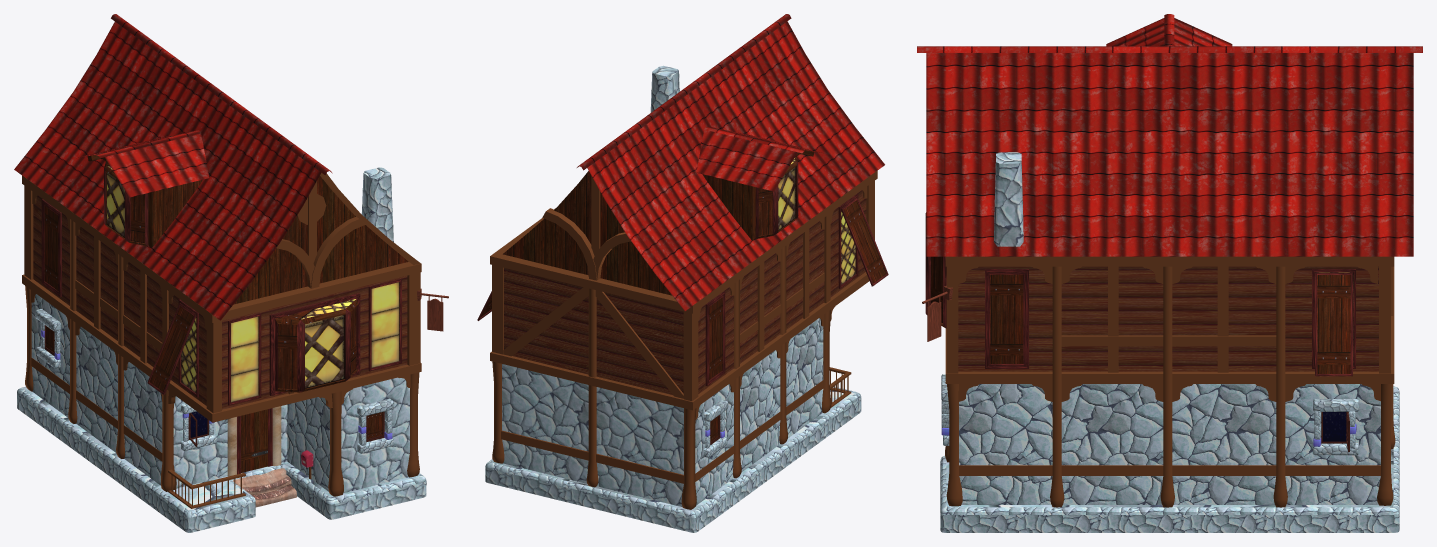
File: House4.fbx
3 views of the same model, side by side, from view 1: azimuth 30°, elevation 25°; view 2: azimuth 150°, elevation 25°; view 3: azimuth 270°, elevation 25° (orthographic). The views are drawn at different scales.
Visible parts, largest first — view 1: Combined_HouseRoot_Mesh_5, Combined_HouseRoot_Mesh, Combined_HouseRoot_Mesh_3, Combined_HouseRoot_Mesh_1, Combined_HouseRoot_Mesh_4, Combined_HouseRoot_Mesh_6, Combined_HouseRoot_Mesh_7, Combined_HouseRoot_Mesh_2, Combined_HouseRoot_Mesh_17, Combined_HouseRoot_Mesh_11, Combined_HouseRoot_Mesh_14, Combined_HouseRoot_Mesh_10 (+3 smaller); view 2: Combined_HouseRoot_Mesh_5, Combined_HouseRoot_Mesh, Combined_HouseRoot_Mesh_3, Combined_HouseRoot_Mesh_4, Combined_HouseRoot_Mesh_6, Combined_HouseRoot_Mesh_7, Combined_HouseRoot_Mesh_1, Combined_HouseRoot_Mesh_11; view 3: Combined_HouseRoot_Mesh_5, Combined_HouseRoot_Mesh_3, Combined_HouseRoot_Mesh, Combined_HouseRoot_Mesh_4, Combined_HouseRoot_Mesh_6, Combined_HouseRoot_Mesh_1, Combined_HouseRoot_Mesh_11, Combined_HouseRoot_Mesh_10, Combined_HouseRoot_Mesh_8, Combined_HouseRoot_Mesh_12.
Part boxes in pixels (x1,y1,x2,y2): Combined_HouseRoot_Mesh_5: [14, 14, 332, 320]; Combined_HouseRoot_Mesh: [22, 173, 421, 508]; Combined_HouseRoot_Mesh_3: [31, 167, 409, 492]; Combined_HouseRoot_Mesh_1: [41, 161, 360, 397]; Combined_HouseRoot_Mesh_4: [33, 195, 407, 409]; Combined_HouseRoot_Mesh_6: [17, 386, 426, 532]; Combined_HouseRoot_Mesh_7: [87, 154, 408, 304]; Combined_HouseRoot_Mesh_2: [228, 278, 401, 405]; Combined_HouseRoot_Mesh_17: [237, 408, 272, 474]; Combined_HouseRoot_Mesh_11: [35, 309, 394, 453]; Combined_HouseRoot_Mesh_14: [233, 468, 296, 507]; Combined_HouseRoot_Mesh_10: [44, 325, 384, 446]; Combined_HouseRoot_Mesh_5: [577, 14, 884, 311]; Combined_HouseRoot_Mesh: [490, 170, 877, 509]; Combined_HouseRoot_Mesh_3: [502, 65, 823, 506]; Combined_HouseRoot_Mesh_4: [504, 190, 866, 394]; Combined_HouseRoot_Mesh_6: [485, 387, 861, 532]; Combined_HouseRoot_Mesh_7: [503, 149, 814, 295]; Combined_HouseRoot_Mesh_1: [477, 156, 888, 385]; Combined_HouseRoot_Mesh_11: [703, 400, 728, 457]; Combined_HouseRoot_Mesh_5: [917, 14, 1422, 256]; Combined_HouseRoot_Mesh_3: [959, 152, 1380, 504]; Combined_HouseRoot_Mesh: [945, 256, 1395, 507]; Combined_HouseRoot_Mesh_4: [958, 266, 1378, 371]; Combined_HouseRoot_Mesh_6: [940, 386, 1399, 532]; Combined_HouseRoot_Mesh_1: [925, 212, 1355, 376]; Combined_HouseRoot_Mesh_11: [941, 374, 1358, 455]; Combined_HouseRoot_Mesh_10: [1321, 412, 1349, 452]; Combined_HouseRoot_Mesh_8: [922, 285, 952, 341]; Combined_HouseRoot_Mesh_12: [941, 401, 1355, 448].
Size of the model in its own units: 854 by 1090 by 1174.
